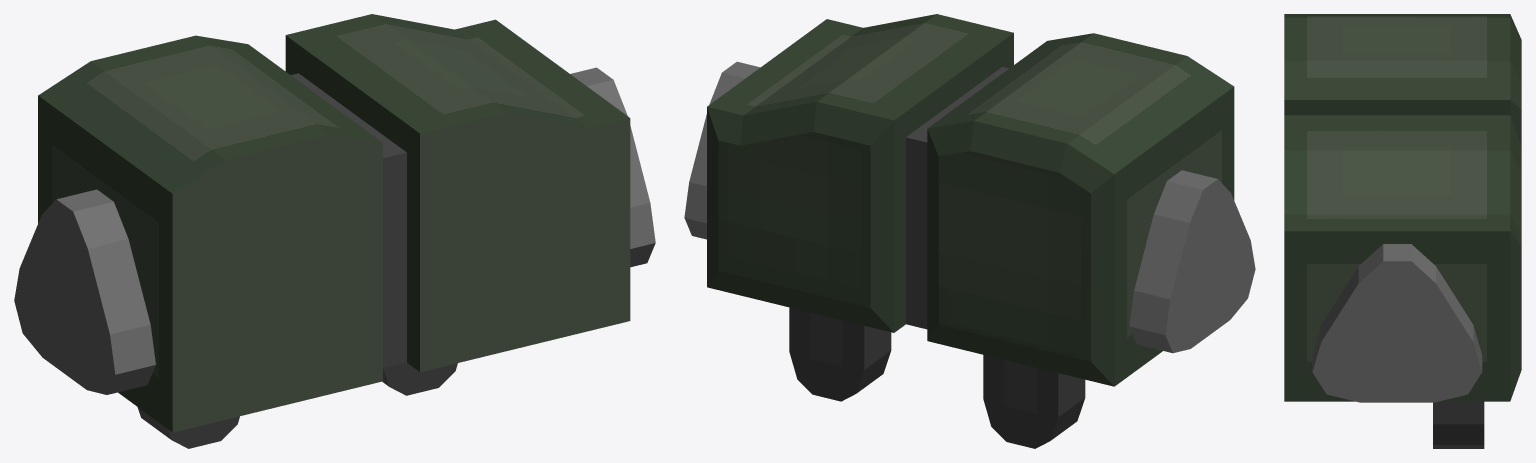
The model's file is wire_carriage.obj.
The picture shows the model from 3 angles, left to right: view 1: azimuth 30°, elevation 25°; view 2: azimuth 150°, elevation 25°; view 3: azimuth 270°, elevation 25°; orthographic projection. The views are drawn at different scales.
Parts seen in each view (by area): view 1: Куб.008; view 2: Куб.008; view 3: Куб.008.
Boxes of the visible parts, x1,y1,x2,y2 form: Куб.008: [14, 14, 655, 448]; Куб.008: [684, 14, 1255, 448]; Куб.008: [1284, 14, 1521, 448].
Bounding box in the file's own units: 0.9094 × 0.5898 × 0.4122.
